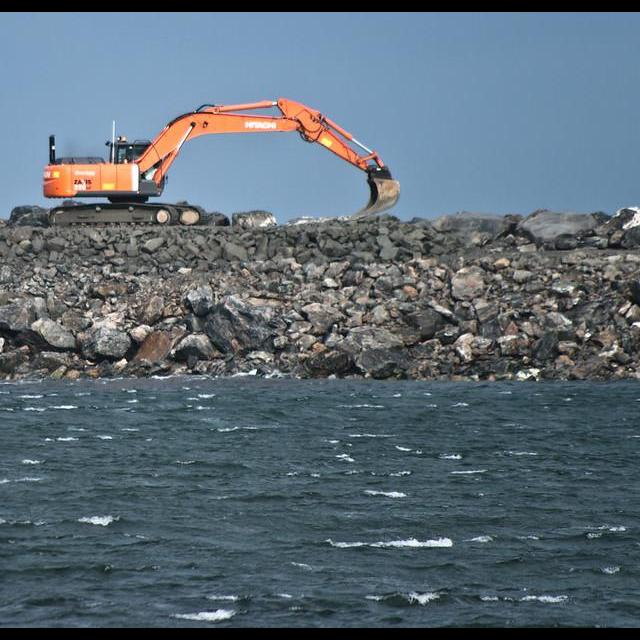Excavator: (45, 97, 402, 229)
